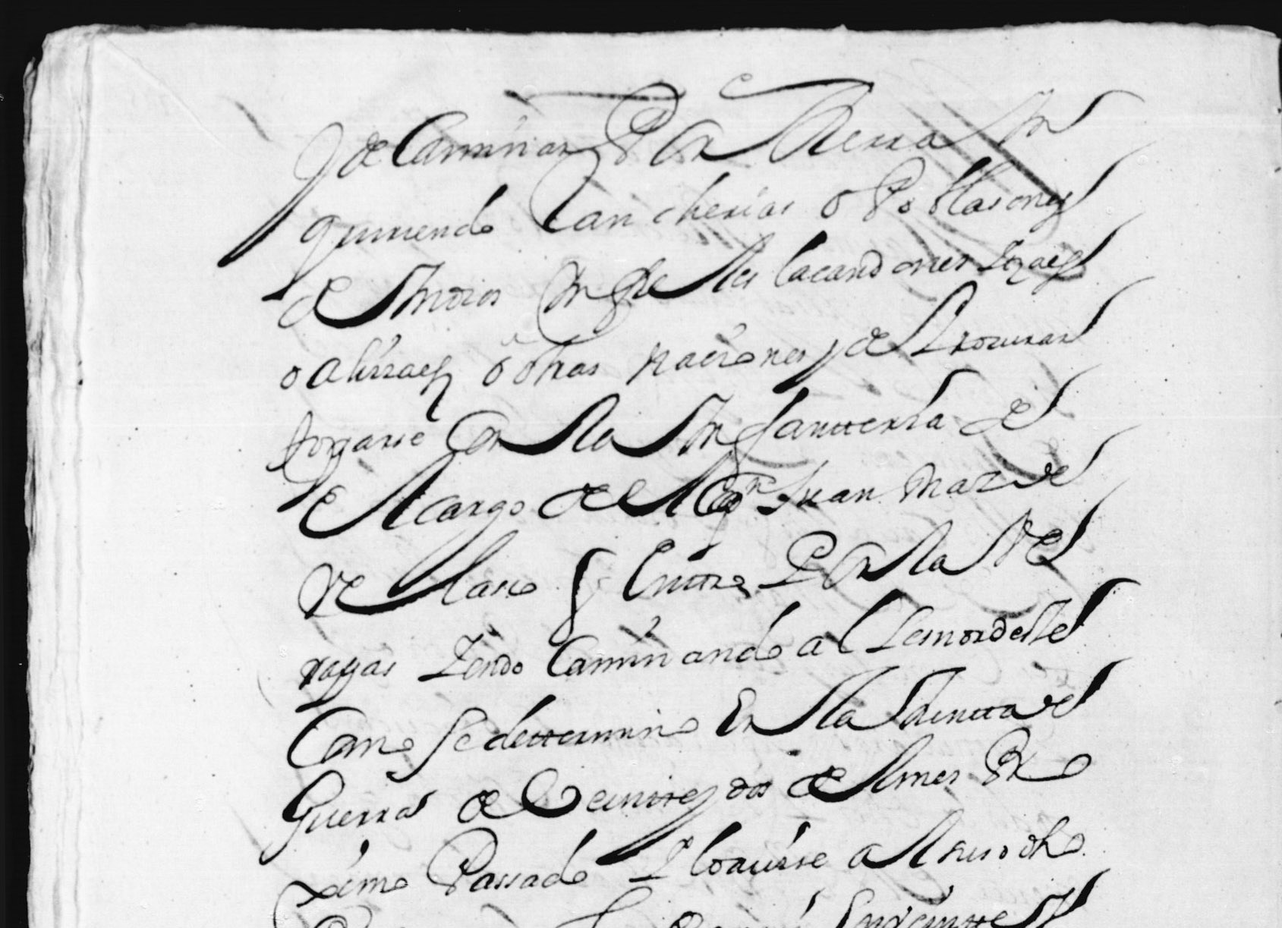lacandon: (774, 230, 969, 287)
